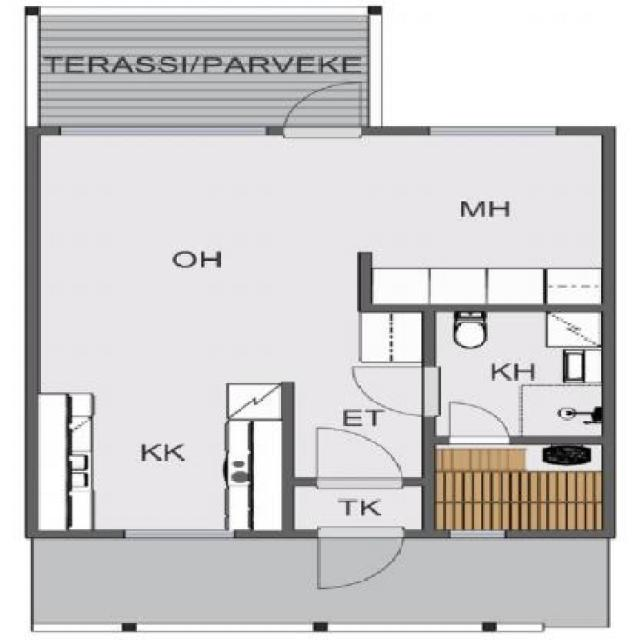door: (282, 72, 369, 143), (311, 529, 411, 586), (315, 426, 403, 488), (346, 366, 446, 417), (448, 400, 509, 442)
window: (60, 126, 268, 140), (423, 125, 559, 140), (120, 529, 242, 540), (452, 529, 500, 540)
zone: (41, 136, 598, 304), (44, 306, 424, 529), (39, 537, 606, 629), (42, 11, 369, 128), (442, 312, 600, 437), (443, 444, 599, 528), (292, 486, 426, 528)
